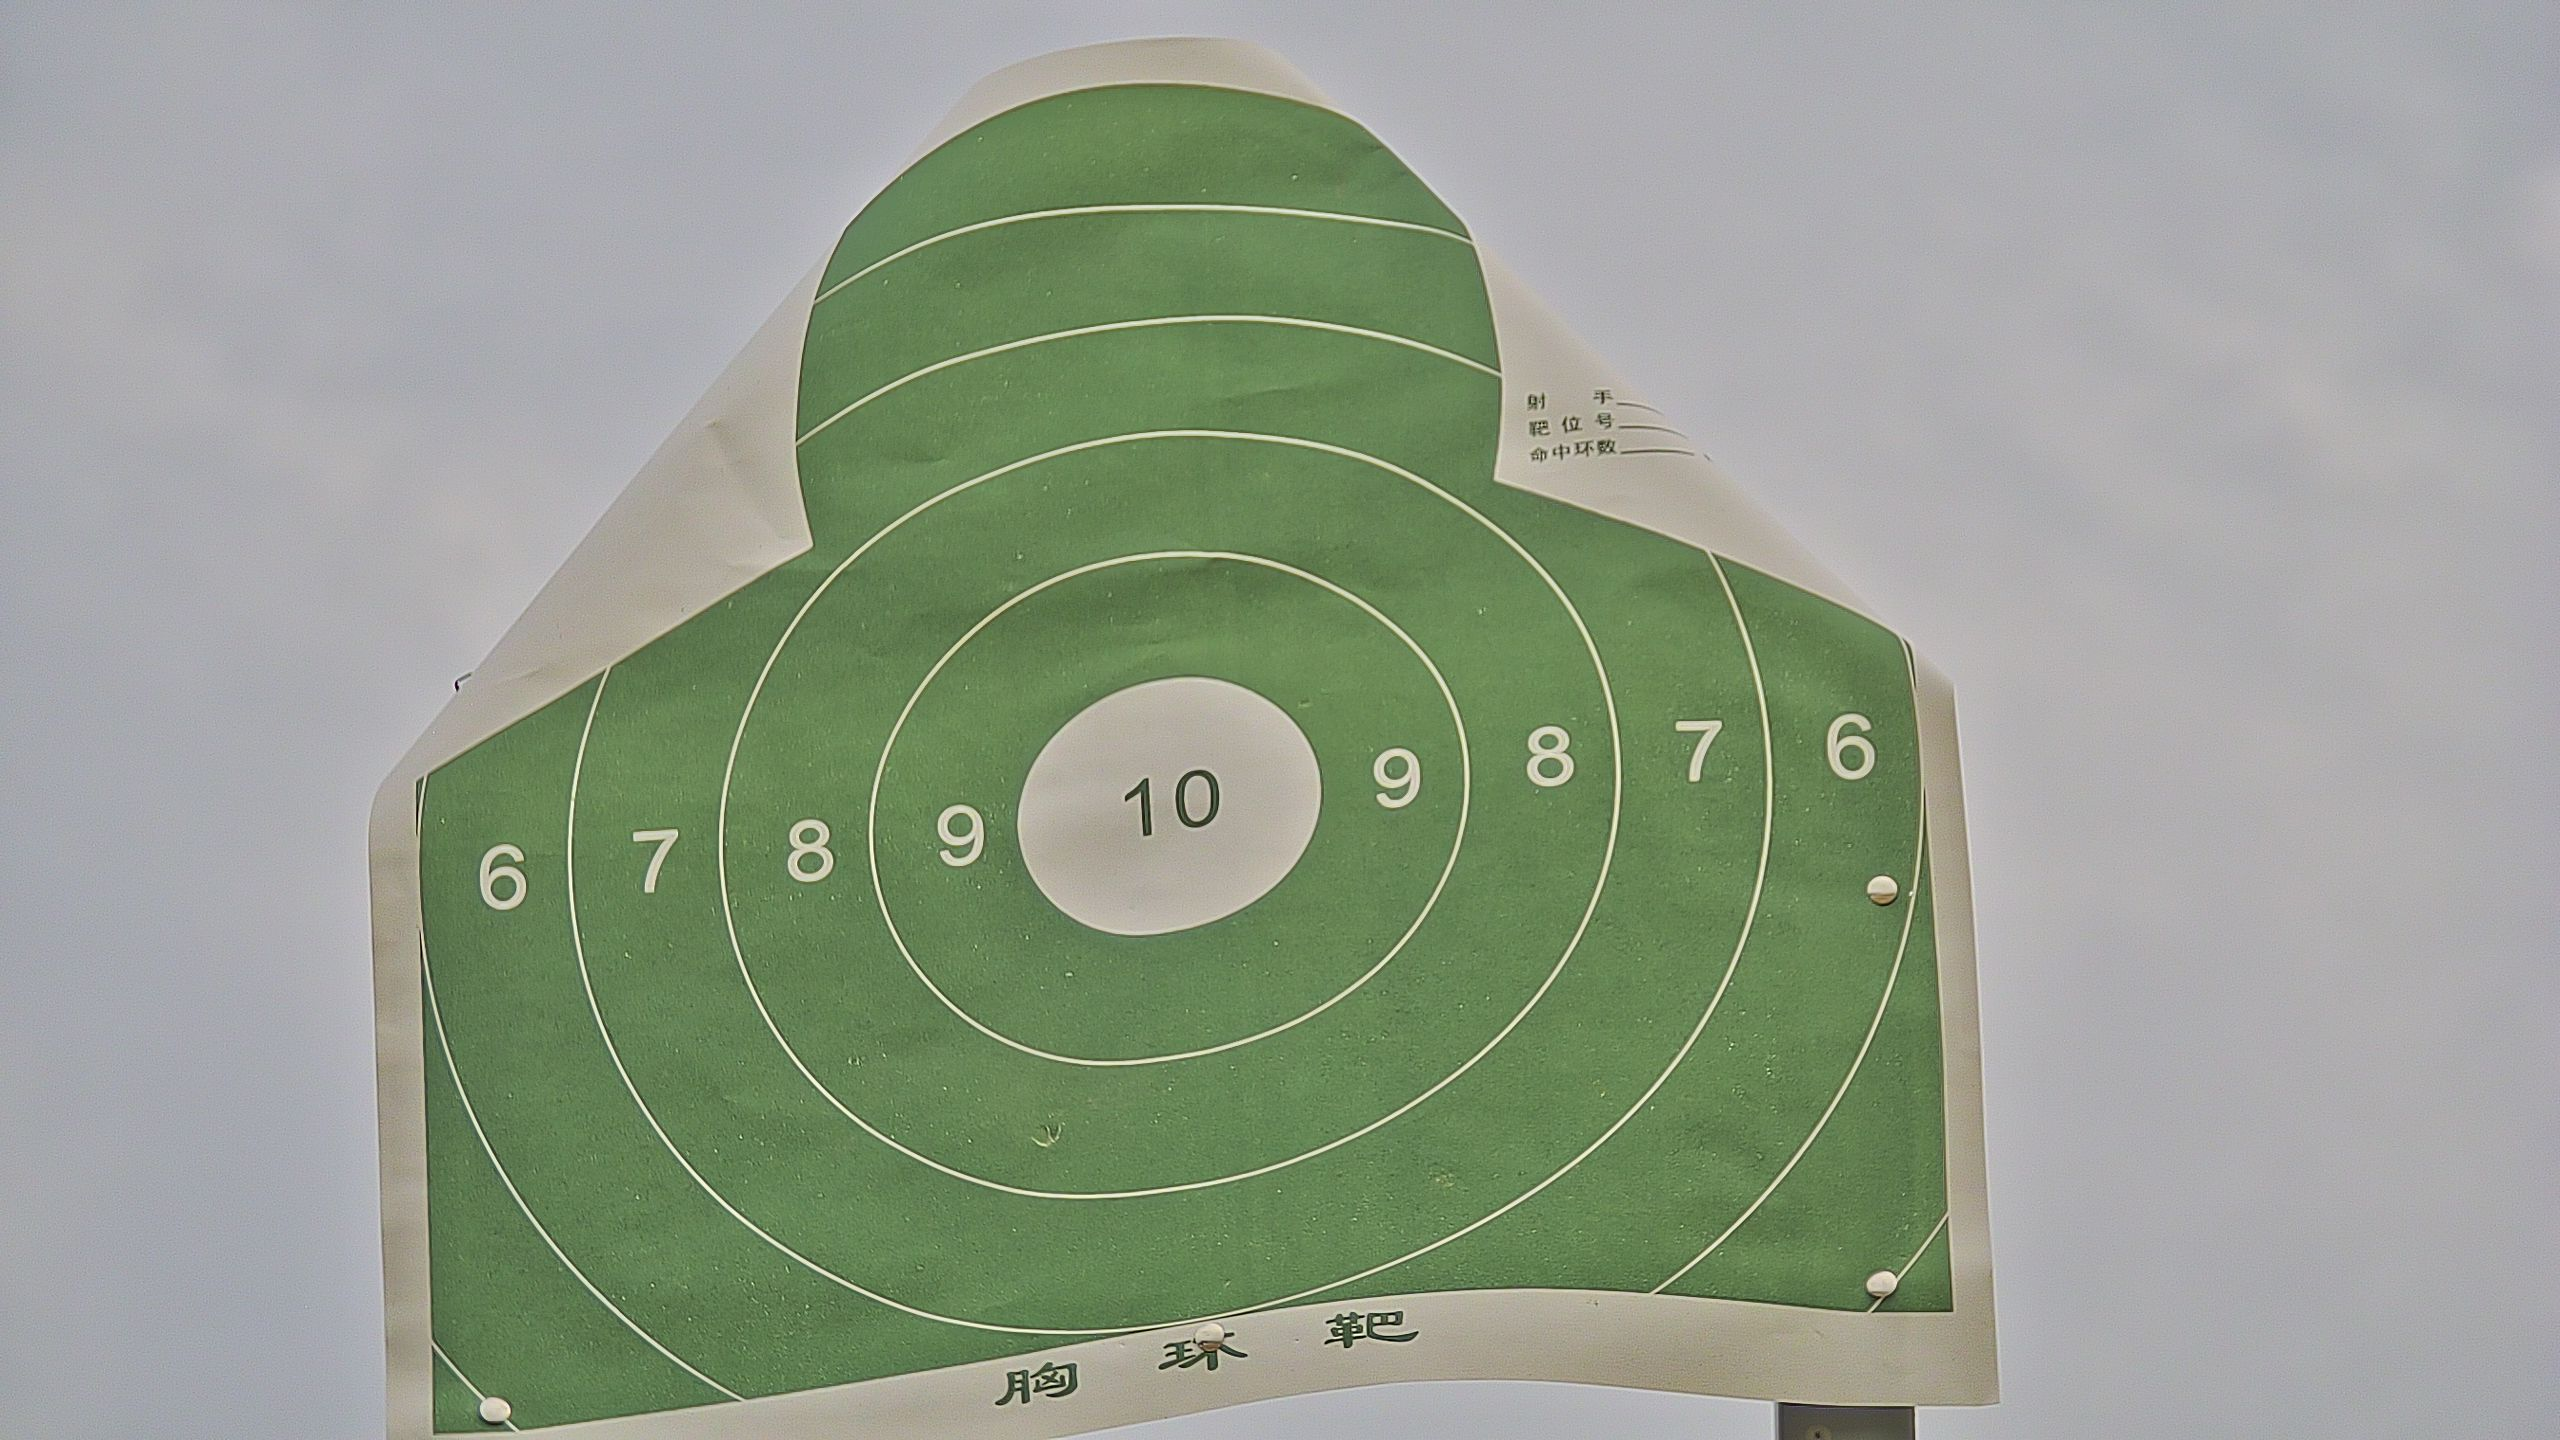target: (410, 88, 1959, 1440)
ten: (1015, 672, 1320, 942)
